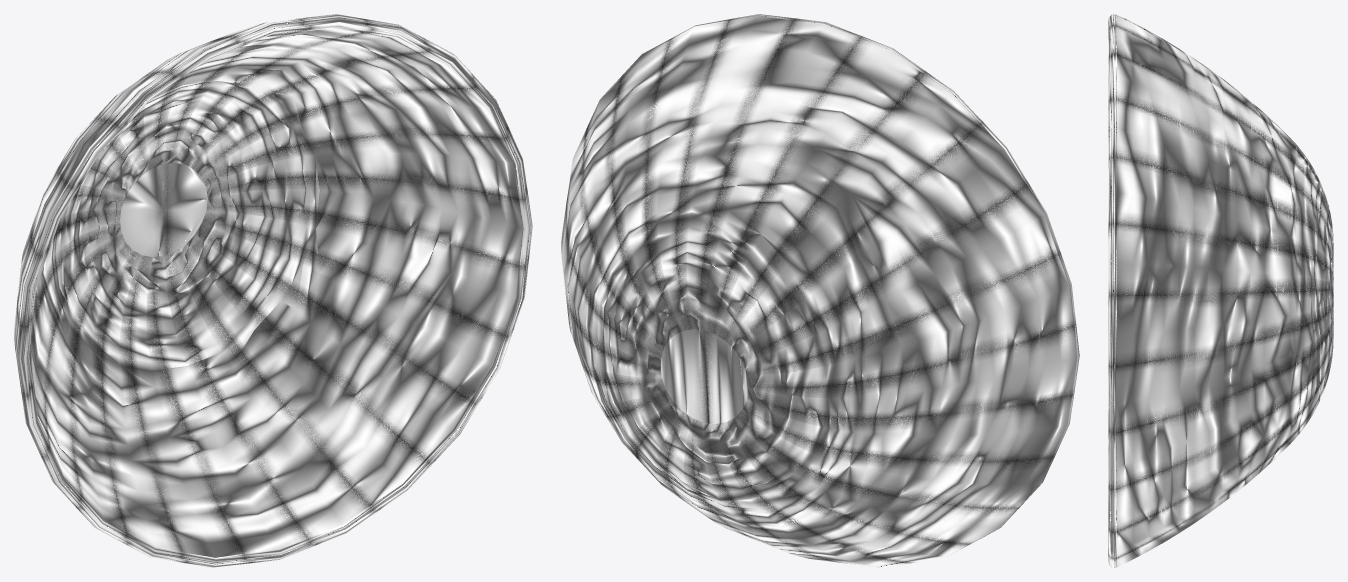
Rendered from model_align.obj.
The picture shows the model from 3 angles, left to right: view 1: azimuth 30°, elevation 25°; view 2: azimuth 150°, elevation 25°; view 3: azimuth 270°, elevation 25°; orthographic projection. The views are drawn at different scales.
Bounding box in the file's own units: 0.1584 × 0.1584 × 0.064.
Materials: 1 (1 with a texture image).
